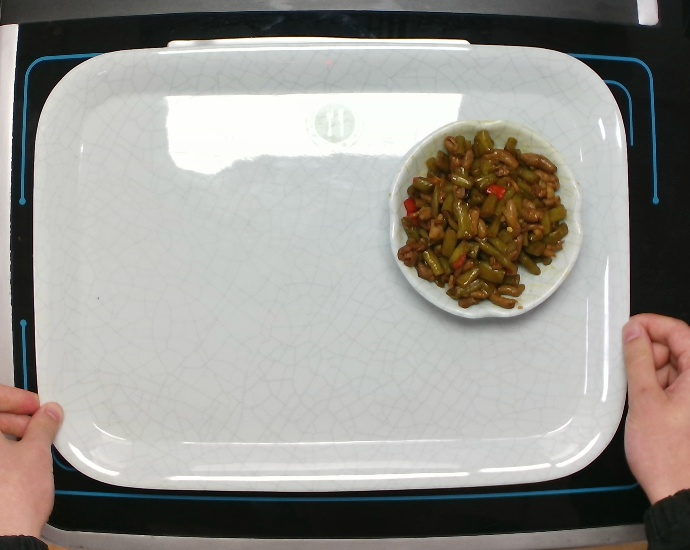JYsf-Ao_Yuan_Wan: (382, 116, 582, 323)
